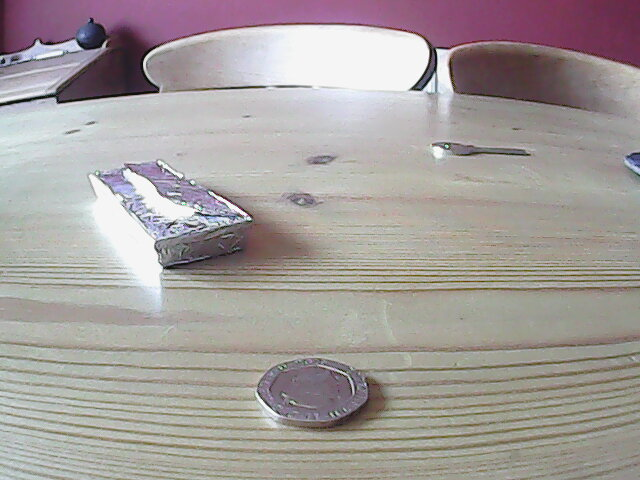Coin: (254, 353, 372, 434)
Foil: (82, 157, 259, 270)
Key: (424, 138, 529, 162)
